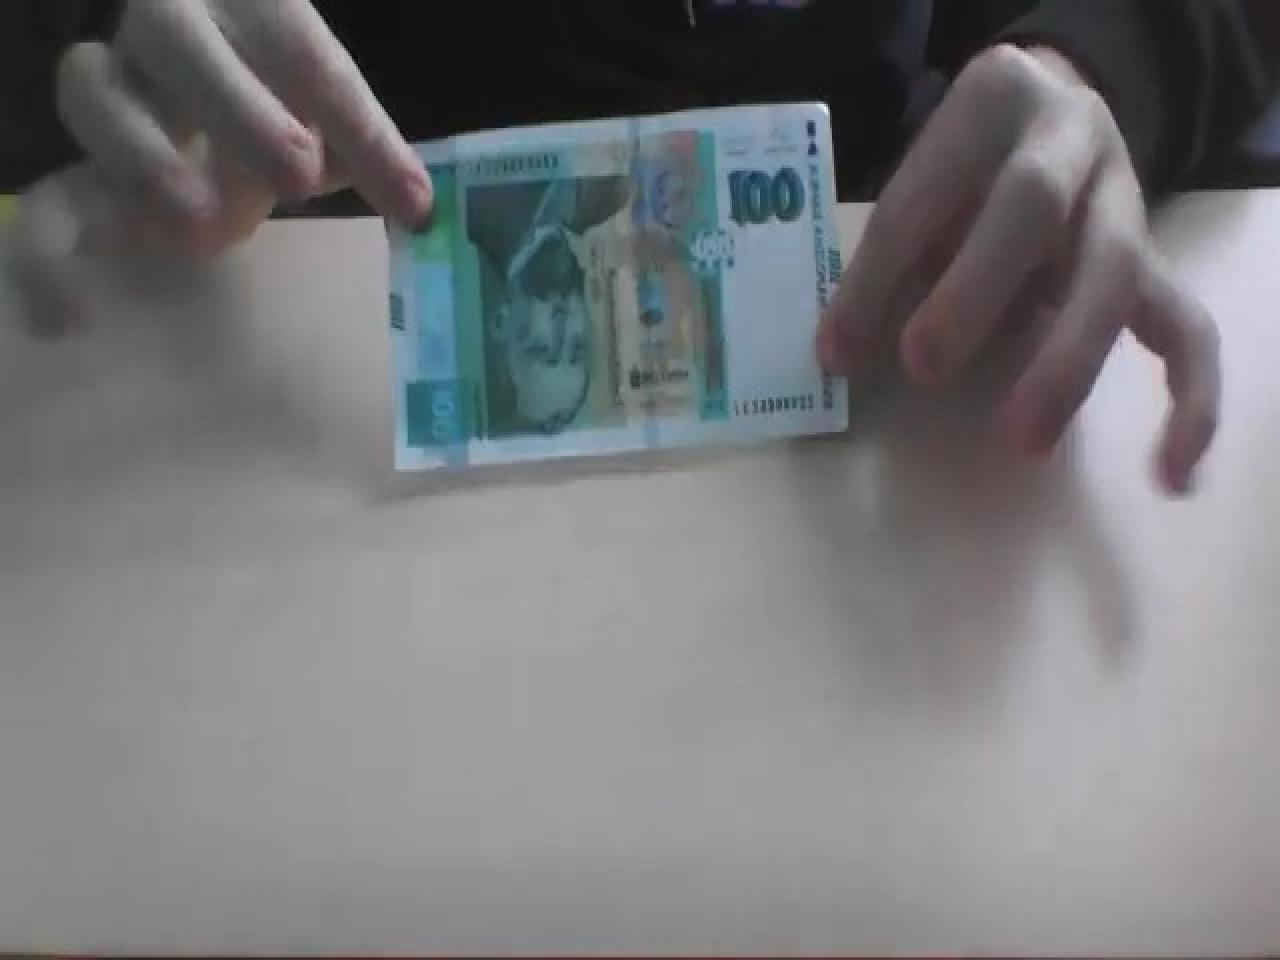100leva: (384, 104, 854, 483)
